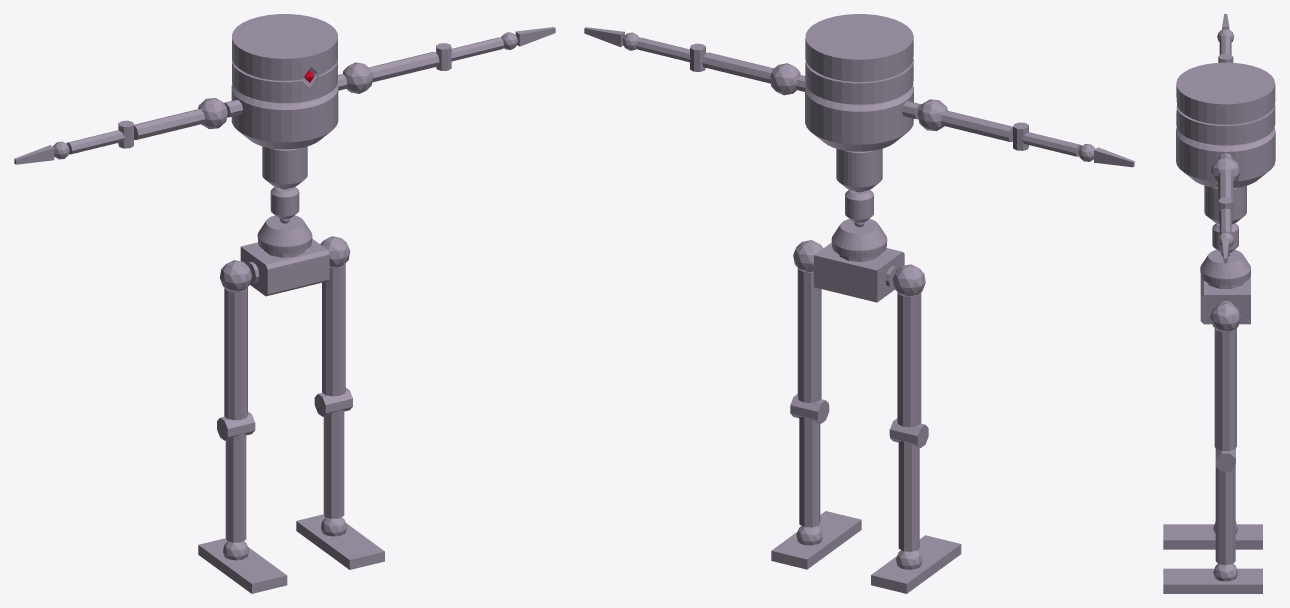
File: cylinder-robot-skinny-no-rig.fbx
The picture shows the model from 3 angles, left to right: view 1: azimuth 30°, elevation 25°; view 2: azimuth 150°, elevation 25°; view 3: azimuth 270°, elevation 25°; orthographic projection. The views are drawn at different scales.
Visible parts, largest first — view 1: head, spine.03, thigh.R, thigh.L, pelvis, shin.R, shin.L, foot.R, foot.L, upper_hand.R, upper_hand.L, spine.00 (+6 smaller); view 2: head, spine.03, thigh.R, thigh.L, pelvis, shin.R, shin.L, foot.R, foot.L, upper_hand.R, upper_hand.L, spine.00 (+6 smaller); view 3: head, thigh.L, spine.03, foot.L, shin.L, foot.R, pelvis, spine.00, spine.02, upper_hand.L, forearm.L, spine.01 (+3 smaller).
Boxes of the visible parts, x1,y1,x2,y2 form: head: (232, 14, 337, 102); spine.03: (224, 74, 347, 149); thigh.R: (220, 260, 252, 420); thigh.L: (320, 236, 350, 396); pelvis: (240, 239, 329, 296); shin.R: (217, 411, 255, 542); shin.L: (314, 387, 352, 518); foot.R: (198, 538, 287, 593); foot.L: (296, 514, 384, 569); upper_hand.R: (134, 98, 227, 139); upper_hand.L: (342, 52, 439, 93); spine.00: (257, 215, 312, 253); head: (805, 14, 913, 104); spine.03: (796, 75, 920, 151); thigh.R: (892, 264, 925, 427); thigh.L: (793, 240, 823, 402); pelvis: (814, 243, 904, 302); shin.R: (889, 418, 928, 551); shin.L: (790, 394, 829, 527); foot.R: (871, 535, 961, 593); foot.L: (771, 511, 861, 569); upper_hand.R: (917, 99, 1012, 141); upper_hand.L: (702, 52, 800, 95); spine.00: (831, 219, 887, 257); head: (1176, 62, 1275, 145); thigh.L: (1210, 303, 1240, 451); spine.03: (1176, 127, 1275, 187); foot.L: (1163, 564, 1262, 593); shin.L: (1215, 448, 1235, 565); foot.R: (1163, 521, 1262, 549); pelvis: (1200, 274, 1250, 324); spine.00: (1200, 250, 1250, 285); spine.02: (1204, 185, 1246, 223); upper_hand.L: (1211, 157, 1240, 200); forearm.L: (1218, 197, 1233, 234); spine.01: (1212, 223, 1238, 252).
Bounding box in the file's own units: 204 × 187 × 39.48.
1 material, 1 textured.
